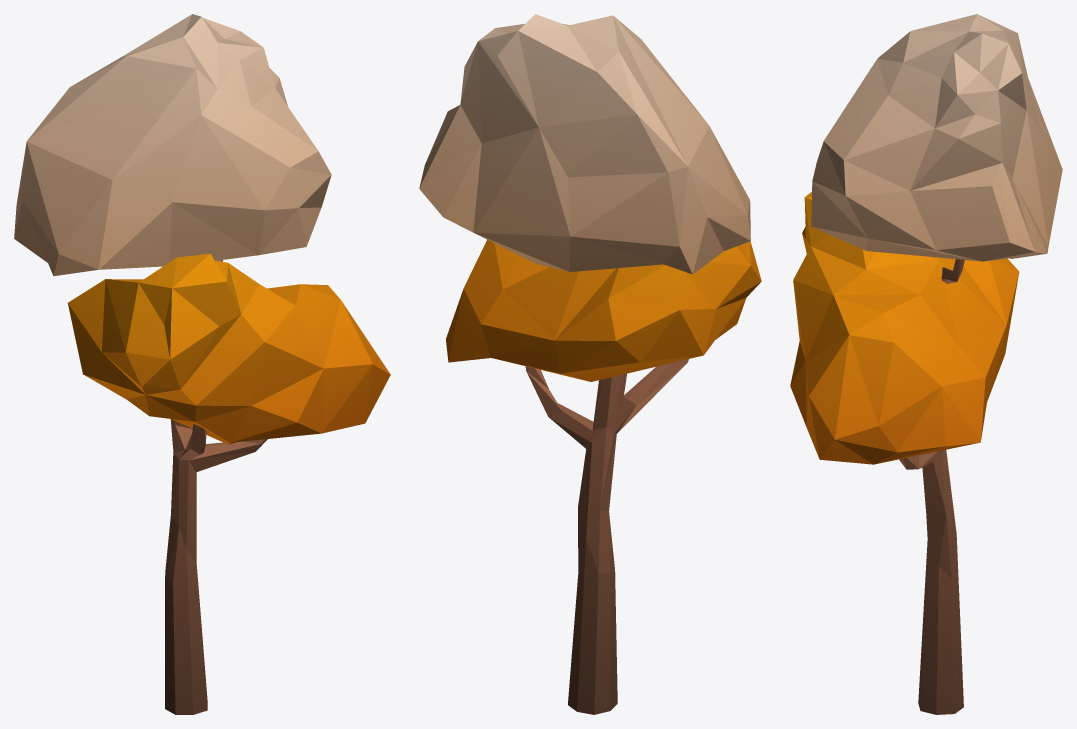
Rendered from autumn tree 11.fbx.
3 views of the same model, side by side, from view 1: azimuth 30°, elevation 25°; view 2: azimuth 150°, elevation 25°; view 3: azimuth 270°, elevation 25° (orthographic). The views are drawn at different scales.
Visible parts, largest first — view 1: autumn tree 11; view 2: autumn tree 11; view 3: autumn tree 11.
Boxes of the visible parts, x1,y1,x2,y2 form: autumn tree 11: (14, 14, 390, 714); autumn tree 11: (419, 14, 761, 714); autumn tree 11: (790, 14, 1062, 714).
Size of the model in its own units: 276 by 596 by 214.
